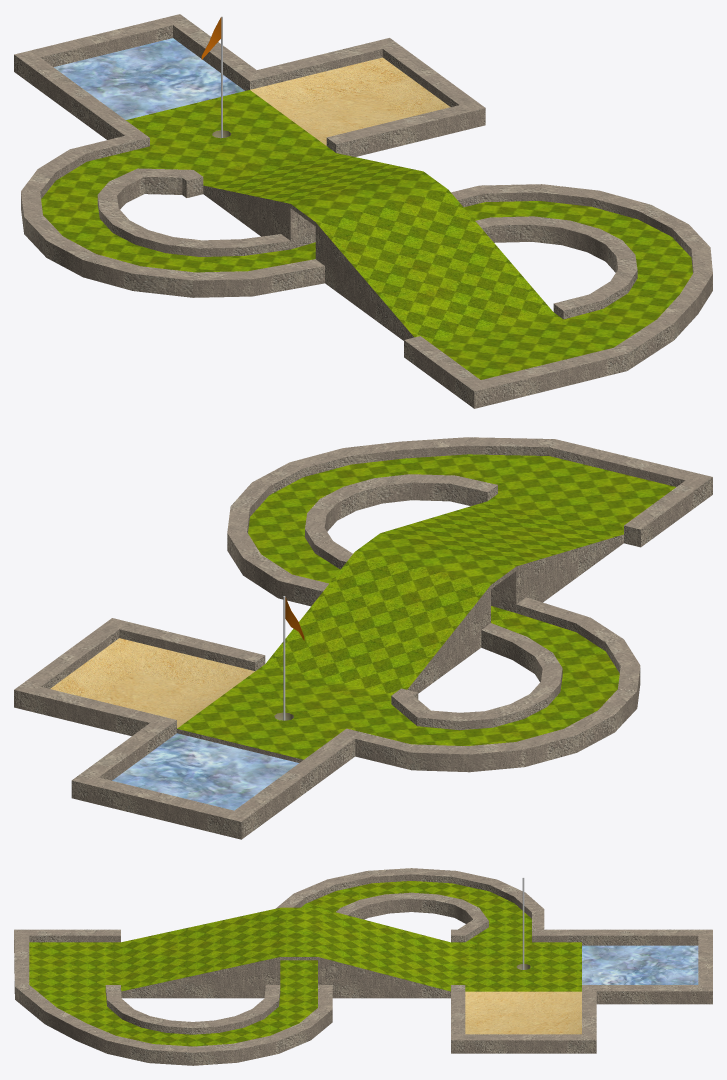
Rendered from course4_hole8.fbx.
The picture shows the model from 3 angles, top to bottom: view 1: azimuth 30°, elevation 25°; view 2: azimuth 150°, elevation 25°; view 3: azimuth 270°, elevation 25°; orthographic projection. The views are drawn at different scales.
Visible parts, largest first — view 1: course4_hole8_ground, course4_hole8_walls, course4_hole8_sand_trap, course4_hole8_water; view 2: course4_hole8_ground, course4_hole8_walls, course4_hole8_sand_trap, course4_hole8_water, course4_hole8_flag; view 3: course4_hole8_ground, course4_hole8_walls, course4_hole8_sand_trap, course4_hole8_water.
Part boxes in pixels (x1,y1,x2,y2): course4_hole8_ground: [41, 90, 692, 379]; course4_hole8_walls: [14, 14, 712, 408]; course4_hole8_sand_trap: [250, 57, 450, 145]; course4_hole8_water: [54, 38, 244, 119]; course4_hole8_ground: [177, 454, 675, 759]; course4_hole8_walls: [14, 437, 712, 839]; course4_hole8_sand_trap: [50, 638, 254, 728]; course4_hole8_water: [112, 733, 298, 810]; course4_hole8_flag: [283, 596, 304, 720]; course4_hole8_ground: [29, 881, 581, 1046]; course4_hole8_walls: [14, 868, 712, 1065]; course4_hole8_sand_trap: [465, 991, 581, 1034]; course4_hole8_water: [582, 945, 698, 984].
Size of the model in its own units: 300 by 75.04 by 480.
